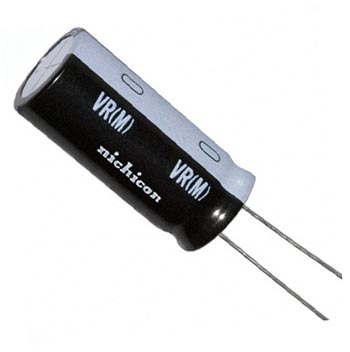capacitor: (7, 9, 295, 317)
